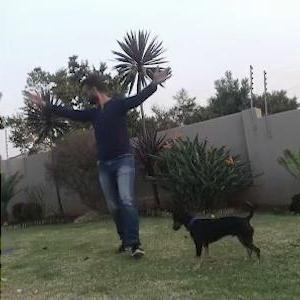takeoff: (28, 57, 177, 244)
